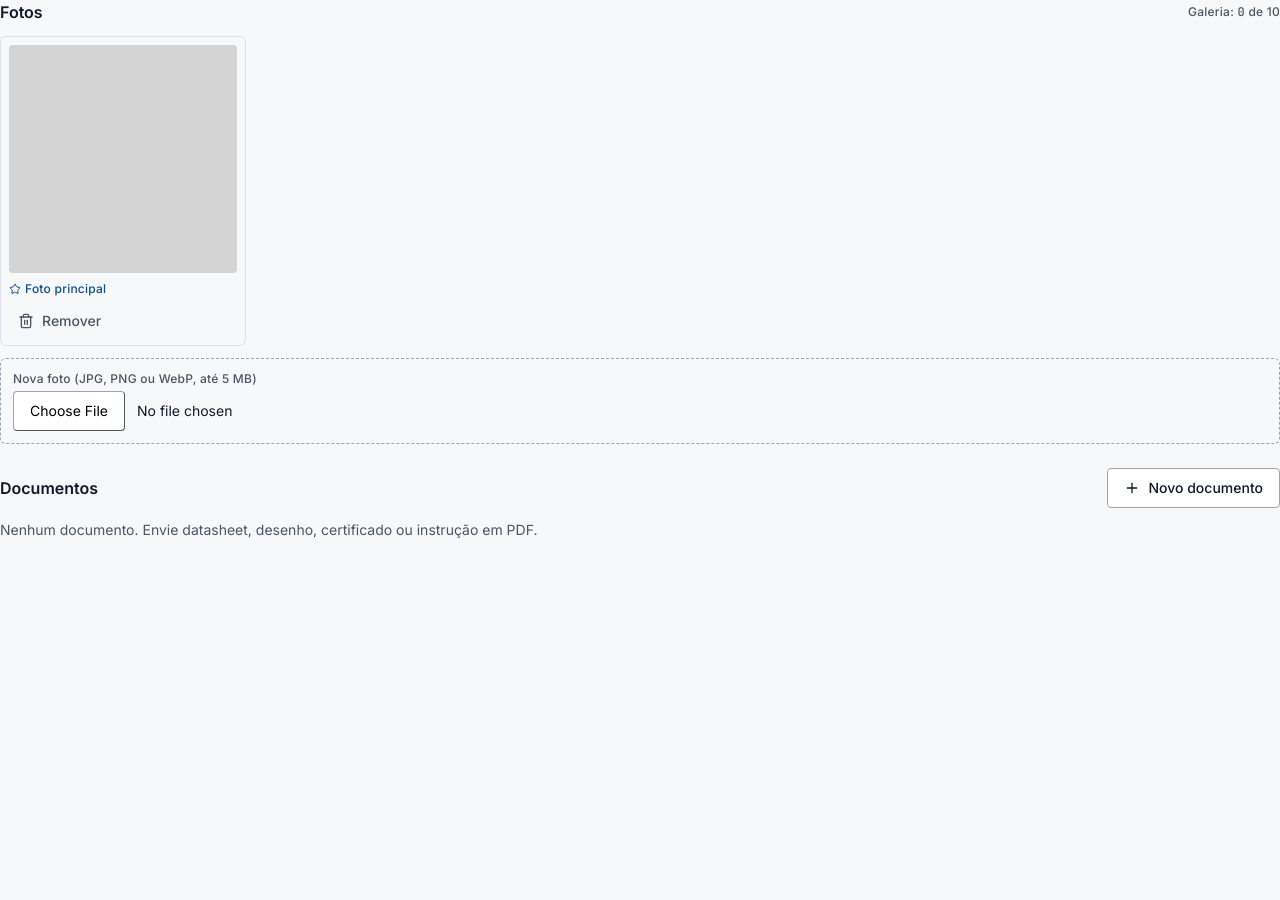
Test: MidiaDoRegistro › remover a foto principal de item critico mostra a mensagem do 409
The image size is (1280, 900).
Click the button with aria-label "Remover foto: foto-1.jpg" at x=123, y=321, box top-left (9, 305), bottom-right (237, 337)
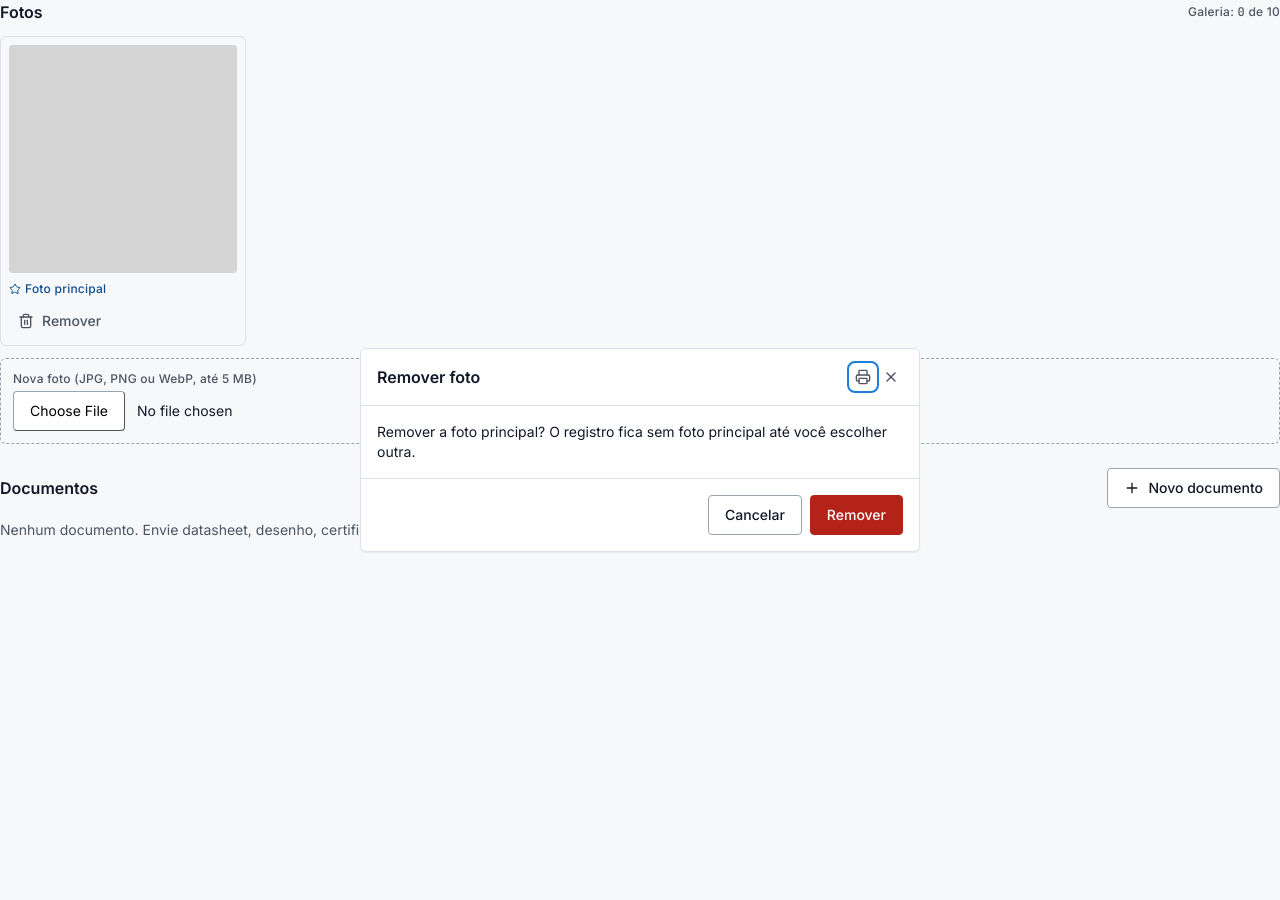
Click the button "Remover" at x=856, y=515, box top-left (810, 495), bottom-right (903, 535)
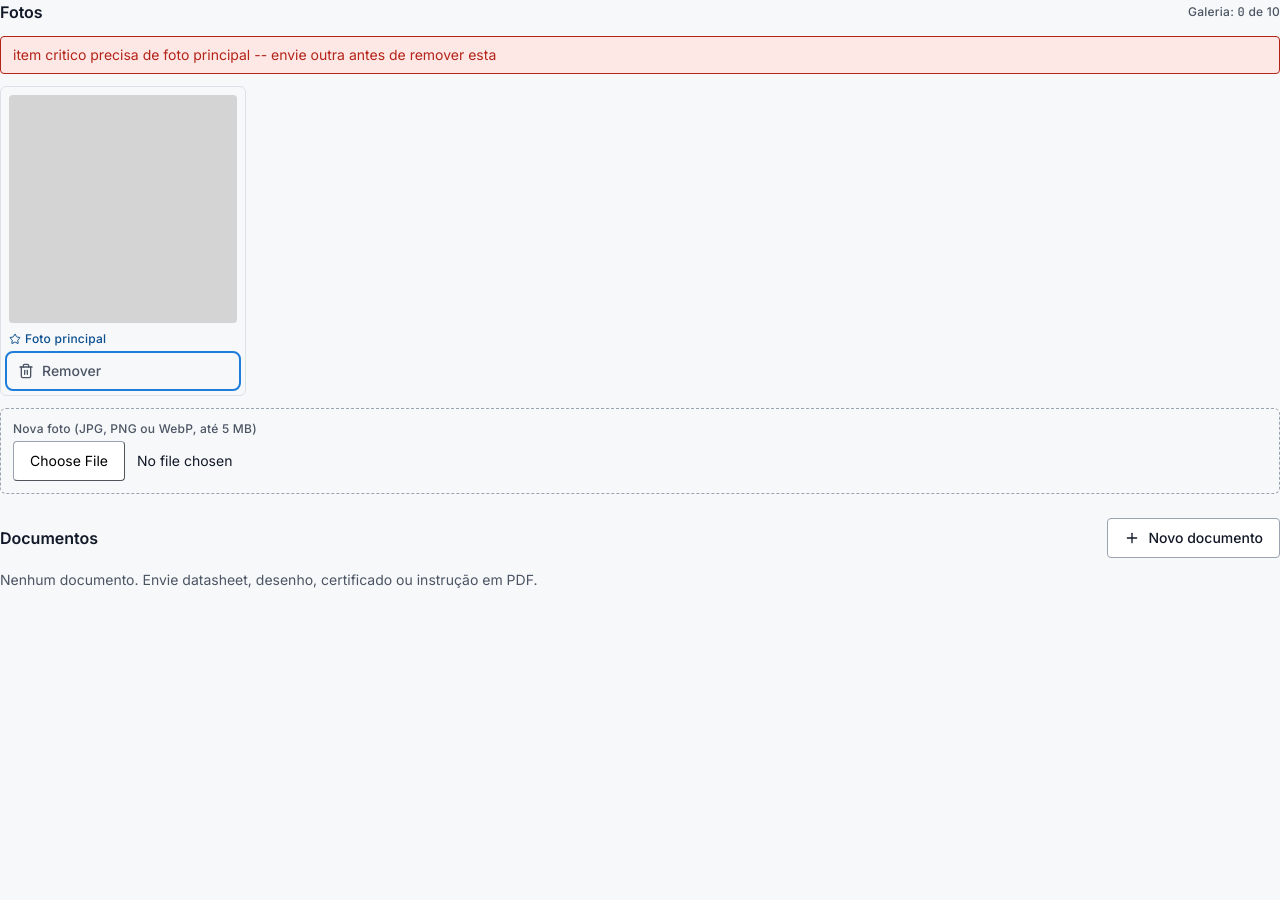
Expected: the text "item critico precisa de foto principal -- envie outra antes de remover esta" is shown, top-left (0, 36), bottom-right (1279, 74)
